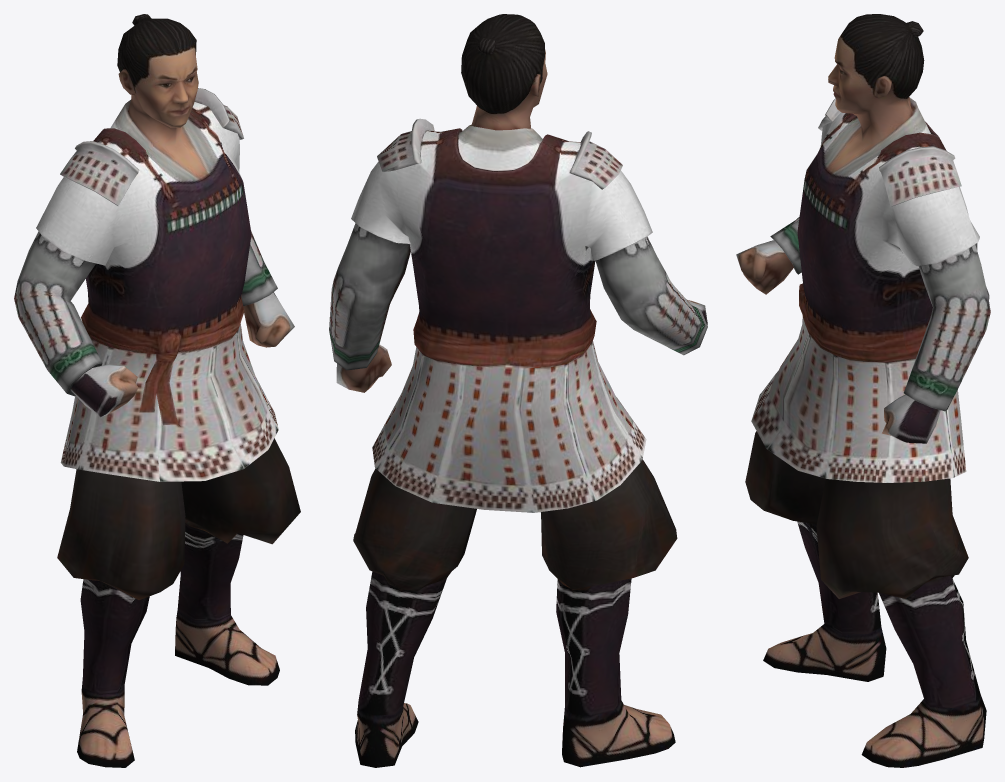
The model's file is body-championguardhousesoldiers.glb.
The picture shows the model from 3 angles, left to right: view 1: azimuth 30°, elevation 25°; view 2: azimuth 150°, elevation 25°; view 3: azimuth 270°, elevation 25°; orthographic projection. The views are drawn at different scales.
Size of the model in its own units: 0.9053 by 2.03 by 0.6792.
Materials: 1 (1 with a texture image).
